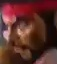ryu: (1, 0, 46, 58)
